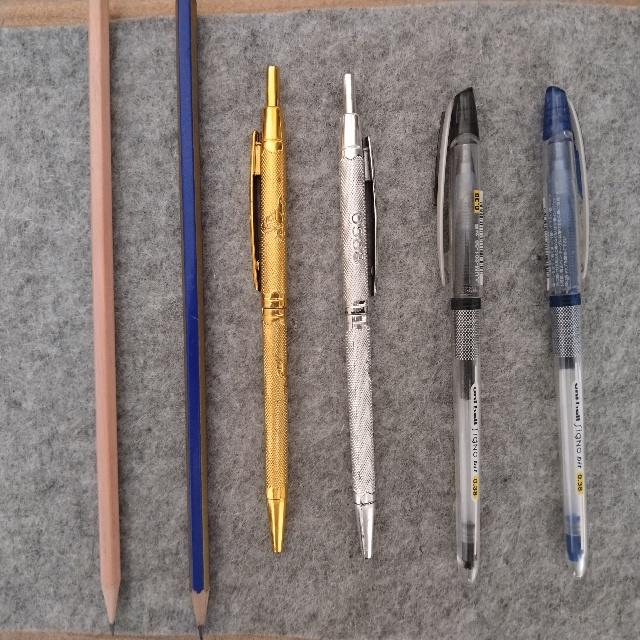pen: (437, 88, 482, 582), (543, 86, 588, 577)
pencil: (176, 0, 208, 637), (88, 0, 120, 632)
signature pen: (250, 66, 287, 552), (339, 74, 376, 557)
